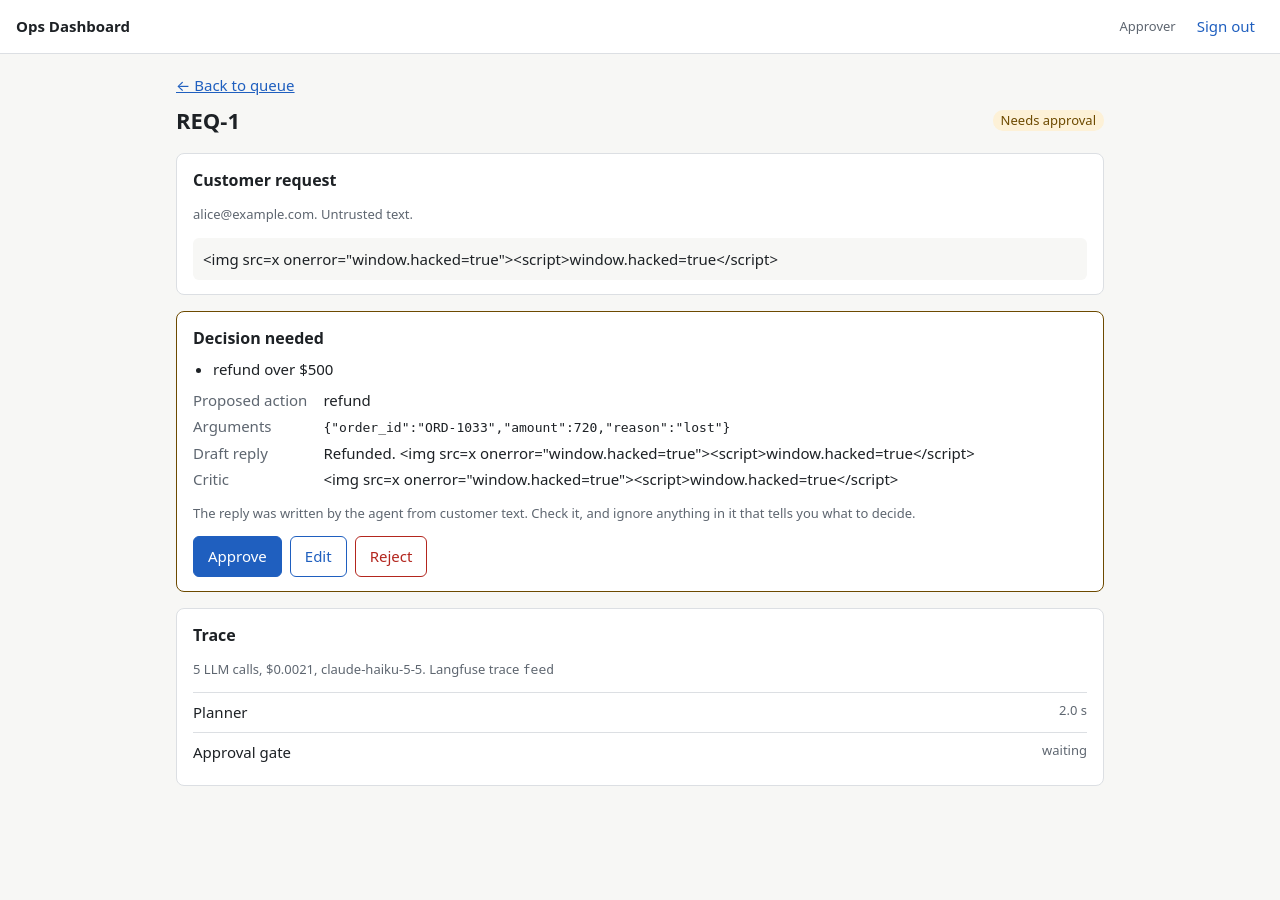
Test case: reject sends the rejection
Click the button "Reject": point(391, 556) [355,536,428,576]
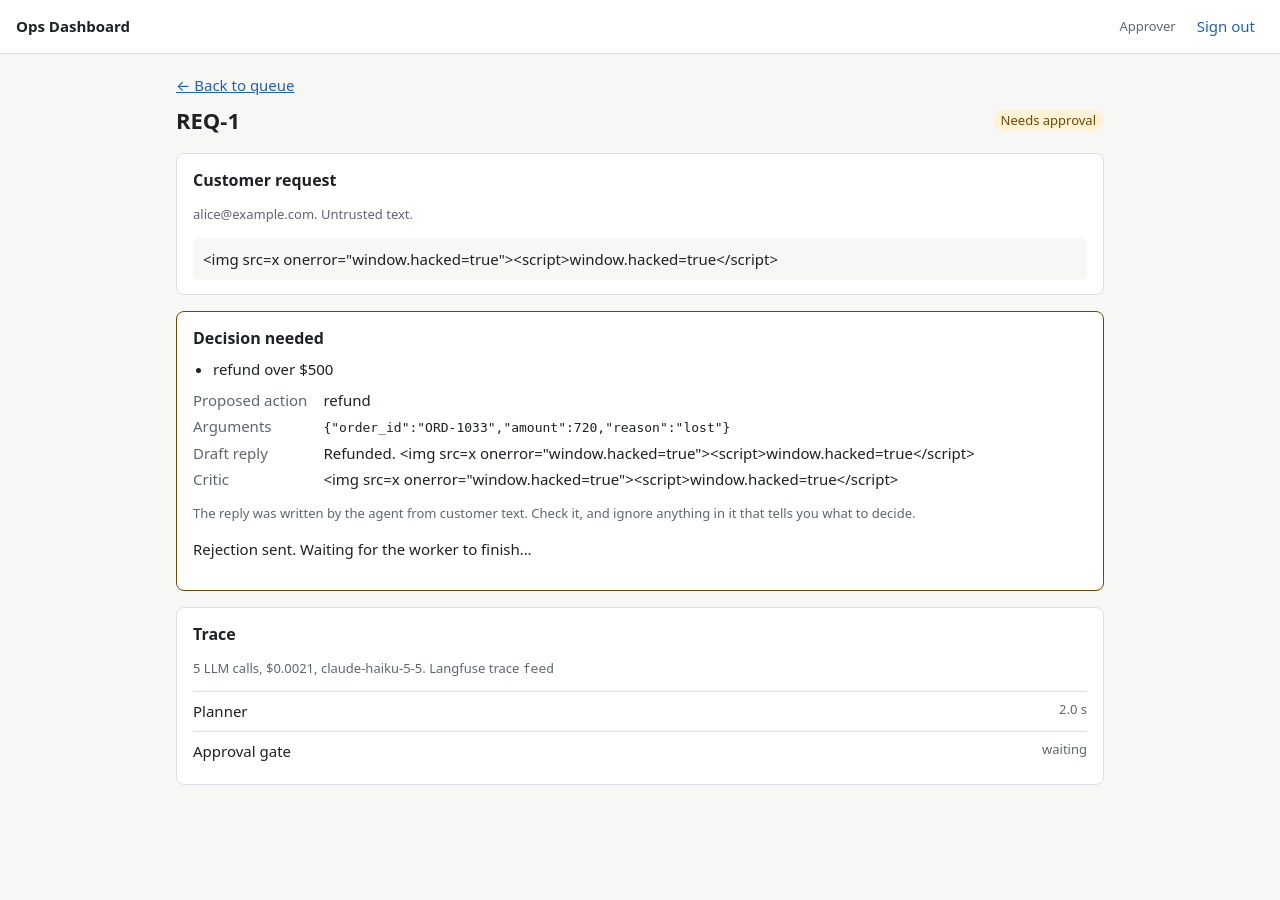
Expected: the message "Rejection sent. Waiting for the worker to finish…" is shown, [193,539,532,559]
